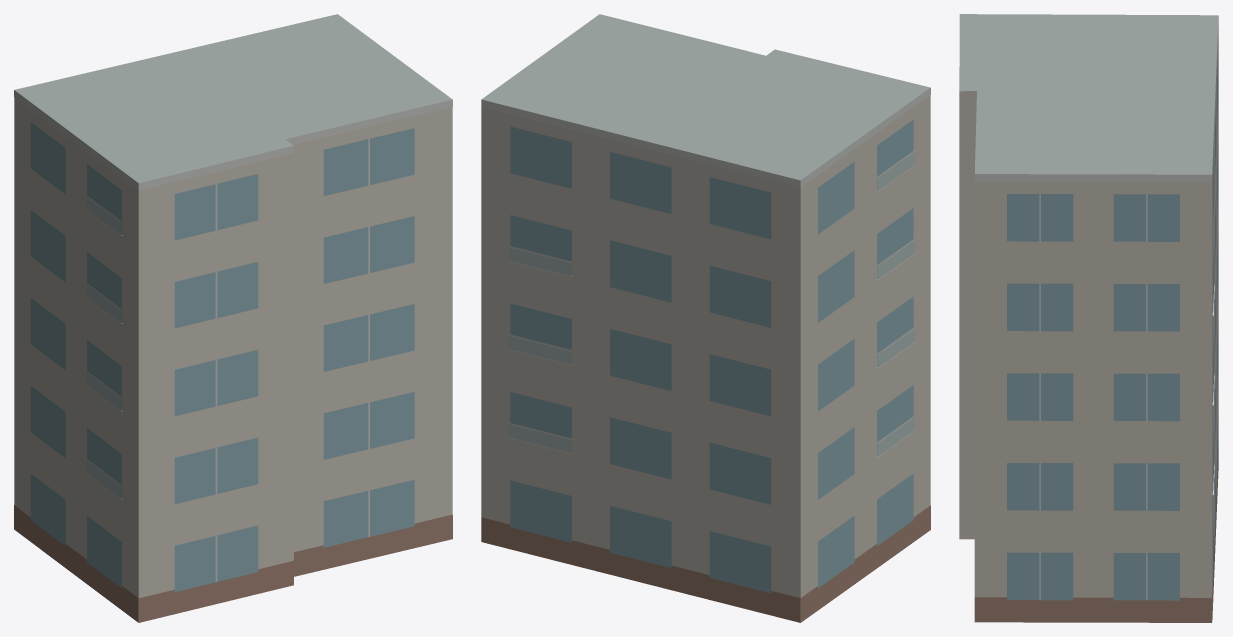
File: survey-upis-32738623.glb
3 views of the same model, side by side, from view 1: azimuth 30°, elevation 25°; view 2: azimuth 150°, elevation 25°; view 3: azimuth 270°, elevation 25° (orthographic).
Visible parts, largest first — view 1: survey-upis-32738623.tmp; view 2: survey-upis-32738623.tmp; view 3: survey-upis-32738623.tmp.
Part boxes in pixels (x1,y1,x2,y2): survey-upis-32738623.tmp: (14, 14, 452, 622); survey-upis-32738623.tmp: (481, 14, 930, 622); survey-upis-32738623.tmp: (959, 14, 1218, 622).
Size of the model in its own units: 11.1 by 14.4 by 7.56.
